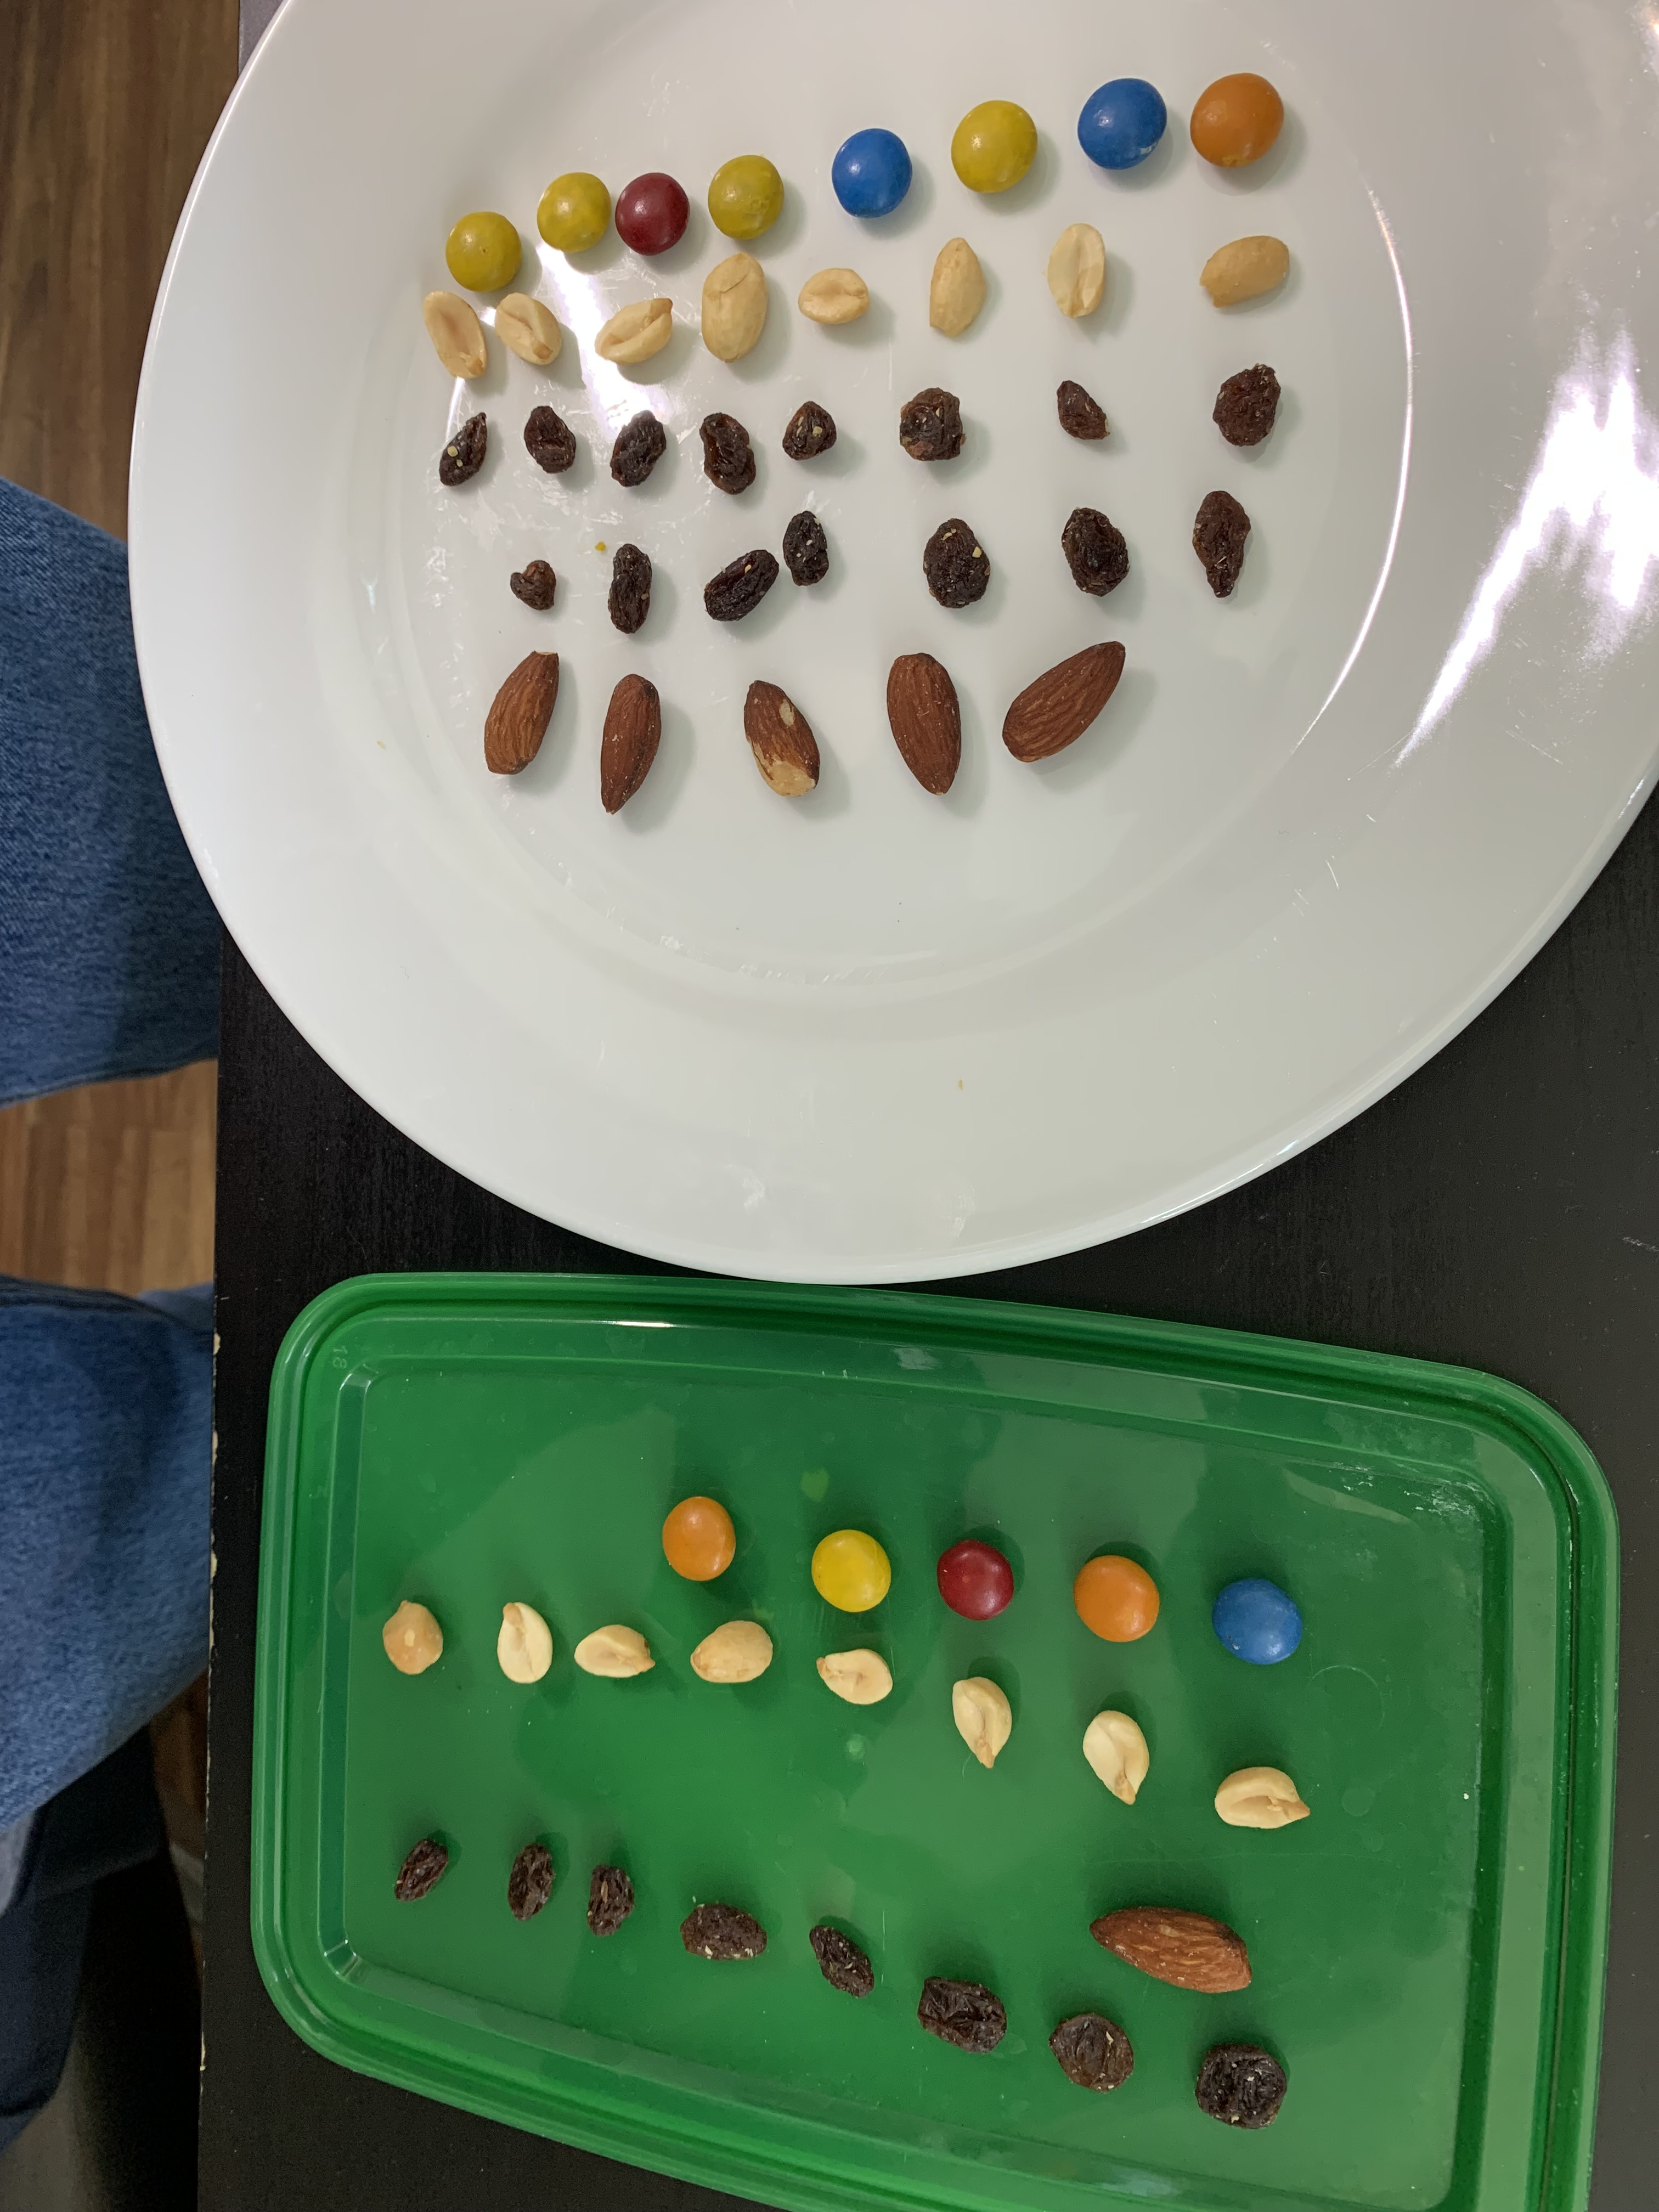almond: (1002, 641, 1127, 763), (1089, 1904, 1253, 1994), (885, 653, 962, 798), (483, 651, 561, 775), (744, 679, 821, 798), (599, 674, 662, 813)
mm: (1190, 71, 1284, 167), (1077, 77, 1168, 169), (950, 99, 1039, 192), (1213, 1578, 1304, 1665), (1073, 1555, 1161, 1642), (831, 127, 913, 218), (810, 1527, 892, 1613), (708, 155, 786, 240), (660, 1496, 737, 1581), (444, 211, 523, 293), (613, 171, 690, 254), (936, 1540, 1014, 1620), (535, 172, 610, 253)
peanut: (701, 253, 767, 362), (1080, 1709, 1150, 1808), (1213, 1766, 1312, 1831), (1201, 235, 1290, 307), (420, 291, 490, 380), (951, 1676, 1012, 1770), (1047, 223, 1107, 319), (931, 239, 986, 338), (688, 1620, 774, 1684), (592, 298, 673, 364), (380, 1599, 444, 1676), (495, 1601, 554, 1683), (495, 293, 561, 366), (573, 1623, 657, 1679), (816, 1646, 894, 1705), (796, 268, 871, 324)
raisin: (1194, 2043, 1290, 2130), (917, 1975, 1007, 2054), (1047, 2012, 1134, 2092), (1192, 491, 1251, 601), (922, 517, 990, 610), (1061, 507, 1131, 596), (1213, 362, 1281, 448), (704, 549, 781, 622), (899, 387, 967, 462), (680, 1904, 767, 1961), (809, 1925, 877, 1998), (699, 413, 756, 495), (606, 543, 653, 634), (610, 411, 666, 486), (392, 1838, 450, 1904), (523, 406, 577, 474), (439, 411, 488, 486), (782, 510, 830, 587), (507, 1844, 554, 1919), (1056, 380, 1112, 442), (587, 1865, 634, 1937), (782, 401, 836, 460), (511, 559, 556, 611)
